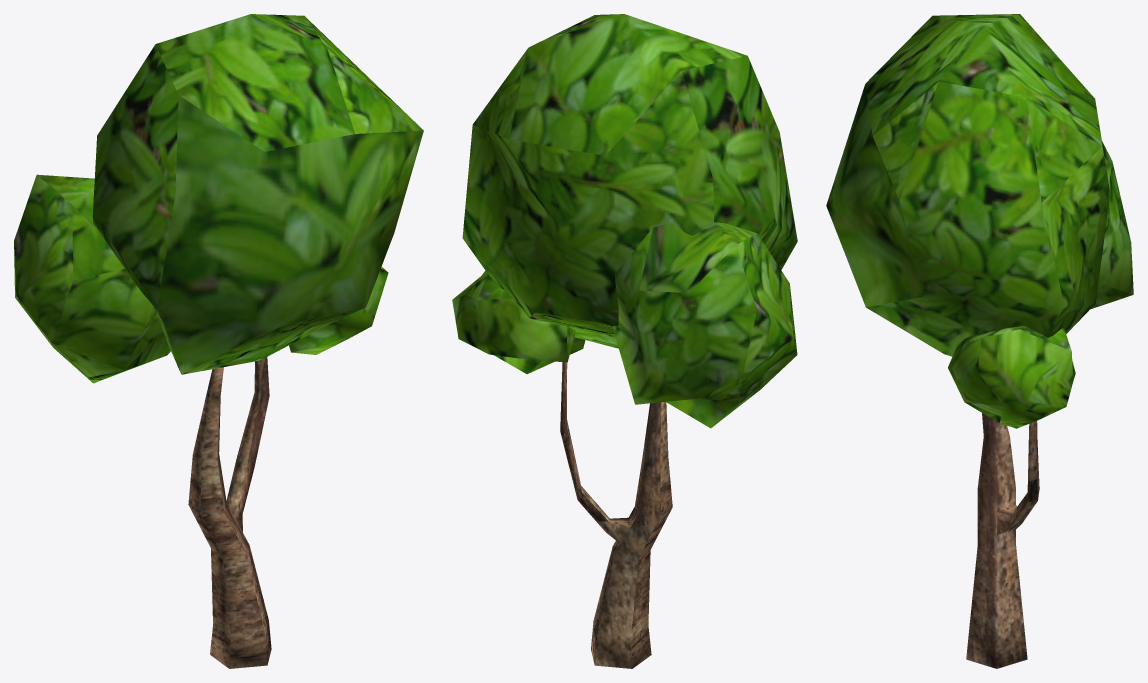
Rendered from tree.obj.
3 views of the same model, side by side, from view 1: azimuth 30°, elevation 25°; view 2: azimuth 150°, elevation 25°; view 3: azimuth 270°, elevation 25° (orthographic). The views are drawn at different scales.
Visible parts, largest first — view 1: Cylinder001; view 2: Cylinder001; view 3: Cylinder001.
Part boxes in pixels (x1,y1,x2,y2): Cylinder001: (14, 14, 423, 668); Cylinder001: (452, 14, 797, 668); Cylinder001: (826, 14, 1133, 668).
Size of the model in its own units: 62.26 by 109 by 48.05.
